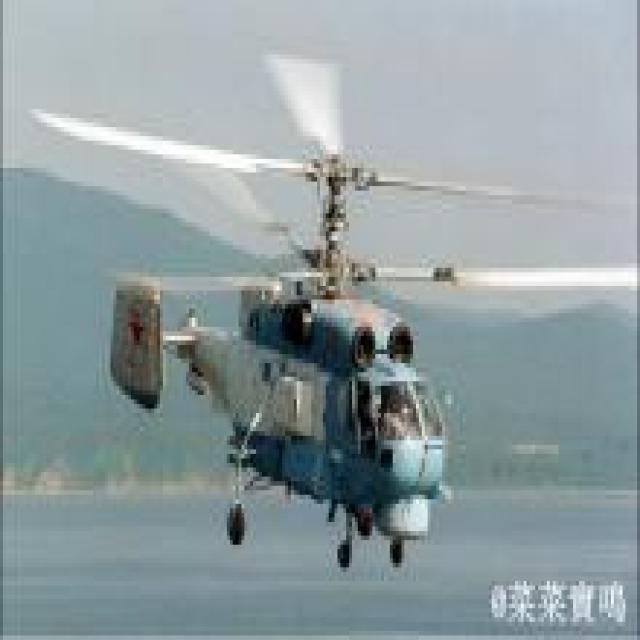MIL_HELO: (20, 46, 640, 576)
